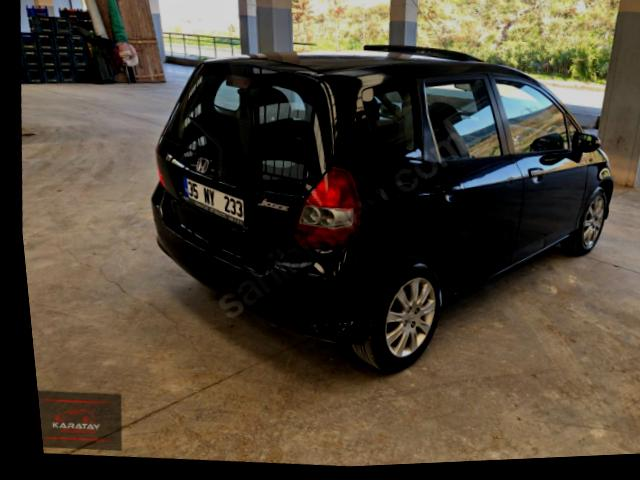plaka: (182, 177, 244, 225)
